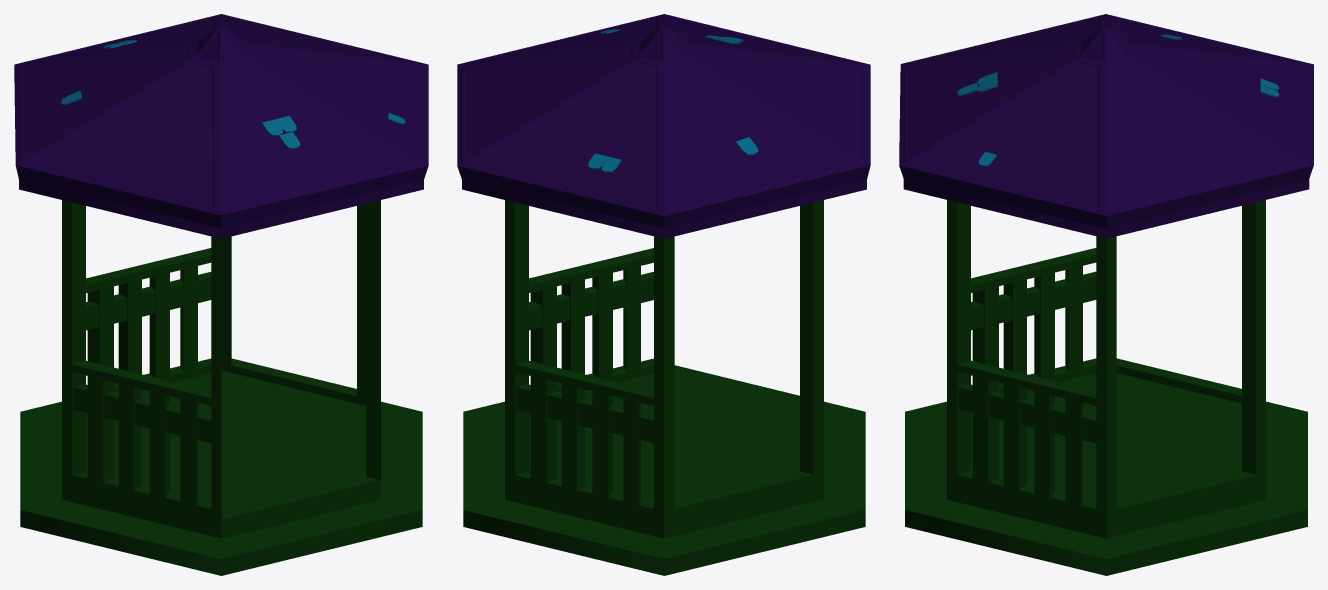
The model's file is Belvédère.fbx.
3 renders of one model, left to right at view 1: azimuth 30°, elevation 25°; view 2: azimuth 150°, elevation 25°; view 3: azimuth 270°, elevation 25°, orthographic.
Visible parts, largest first — view 1: belvédère; view 2: belvédère; view 3: belvédère.
Boxes of the visible parts, x1,y1,x2,y2 form: belvédère: (14, 14, 428, 575); belvédère: (457, 14, 870, 575); belvédère: (899, 14, 1313, 575).
Size of the model in its own units: 429 by 447 by 373.
